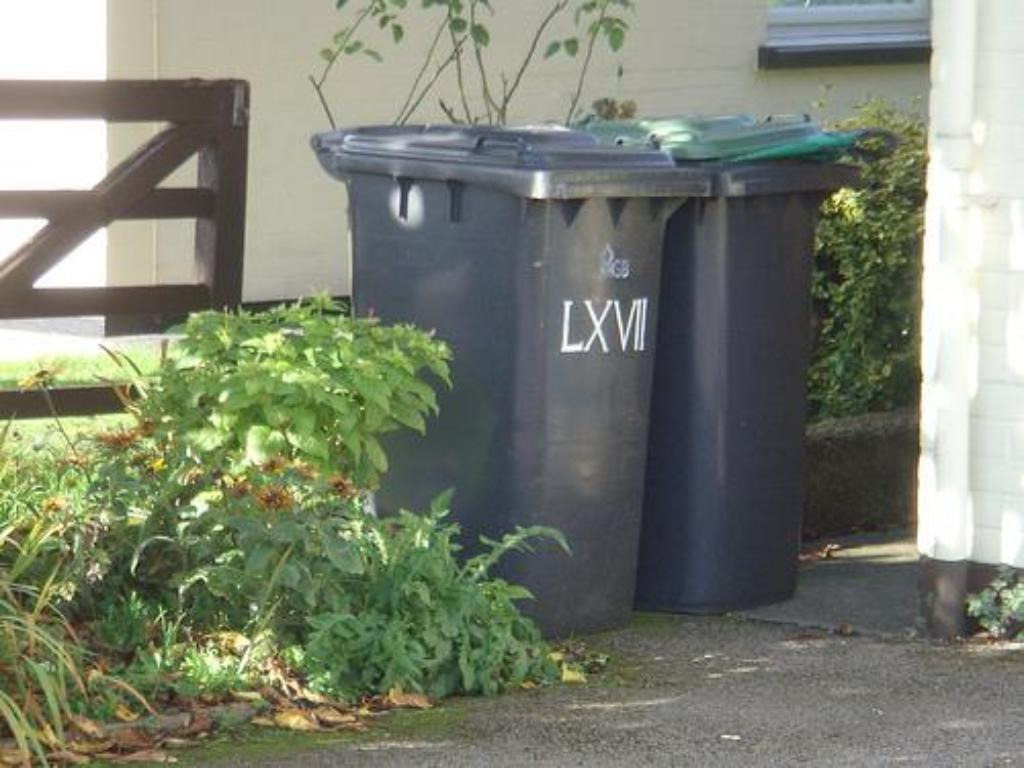dustbin: (313, 120, 692, 649), (641, 105, 848, 623)
